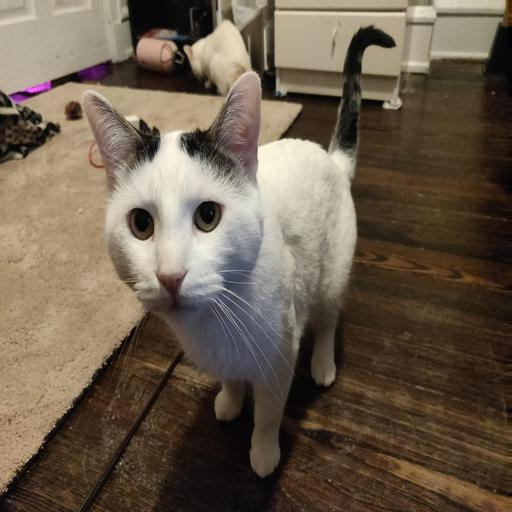cat: (76, 61, 379, 364)
